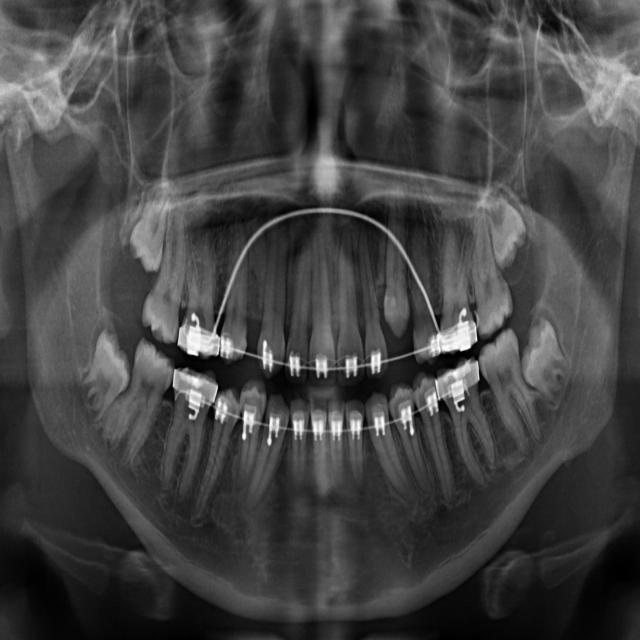3M ESPE Implant: (124, 174, 174, 276)
AGS Medikal Implant: (471, 325, 548, 467)
AMerOss Implant: (432, 352, 503, 497)
Amalgam filling: (137, 194, 196, 347)
Anthogyr Implant: (409, 367, 457, 508)
Bicon Implant: (383, 379, 437, 504)
BioHorizons Implant: (356, 388, 424, 515)
BioLife Implant: (344, 398, 367, 496)
Biomet 3i Implant: (328, 400, 345, 490)
Blue Sky Bio Implant: (310, 393, 329, 499)
Camlog Implant: (289, 397, 310, 492)
Caries: (356, 219, 391, 381)
Composite filling: (239, 391, 295, 520)
Cowellmedi Implant: (236, 376, 267, 493)
Crown: (190, 382, 246, 528)
DENTSPLY Implant: (177, 226, 226, 361)
Dentatus Implant: (158, 363, 221, 505)
Dentis Implant: (101, 335, 182, 479)
Dentium Implant: (70, 324, 145, 430)
Euroteknika Implant: (218, 212, 251, 366)
Frontier Implant: (256, 215, 289, 382)
Hiossen Implant: (383, 175, 413, 338)
Implant: (305, 226, 337, 388)
Implant Direct: (284, 240, 312, 385)
Keystone Dental Implant: (336, 221, 365, 389)
MIS Implant: (401, 217, 440, 369)
Maxilla: (435, 223, 478, 354)
Megagen Implant: (468, 201, 515, 340)
Neodent Implant: (481, 181, 535, 273)
Neoss Implant: (502, 313, 586, 414)
